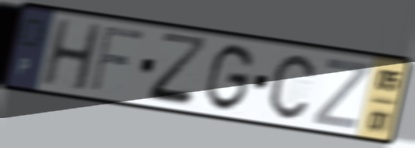C: (267, 52, 317, 122)
F: (87, 23, 148, 95)
G: (203, 42, 256, 115)
H: (38, 17, 104, 94)
Z: (145, 30, 212, 111), (309, 56, 373, 133)
